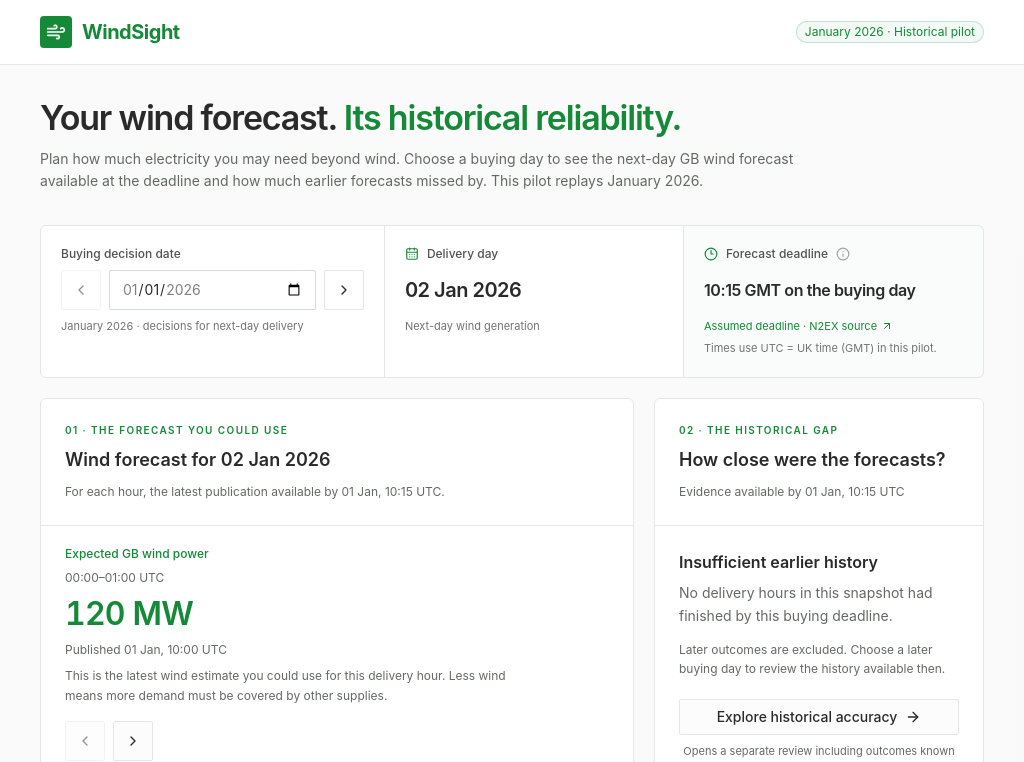
Test case: buyer workflow across views › moves from one buying day to a range review without treating daily error as overall reliability
Click the button "Explore historical accuracy". click: (819, 716)
box: x1=679 y1=698 x2=959 y2=734
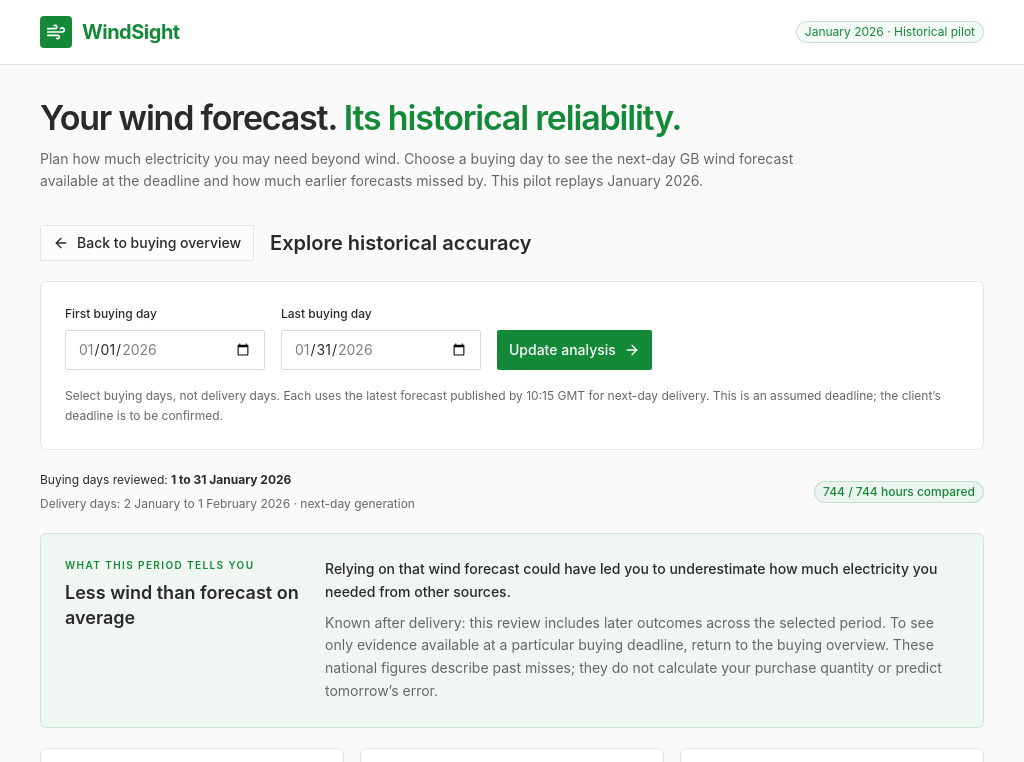
expect the text "744 / 744 hours compared" is shown: met, box x1=814 y1=480 x2=984 y2=502
expect the button "Back to buying overview" is shown: met, box x1=40 y1=225 x2=254 y2=261
expect the element named "How to use this accuracy review" is shown: met, box x1=40 y1=533 x2=984 y2=728
